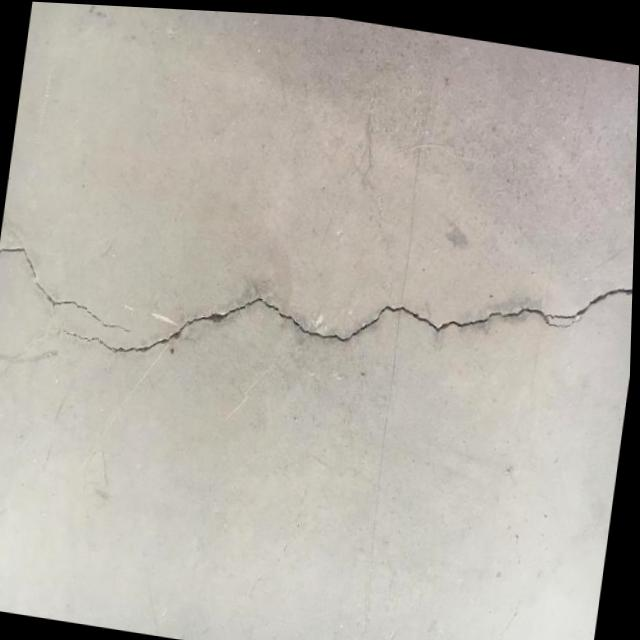Crack: (0, 177, 636, 451)
